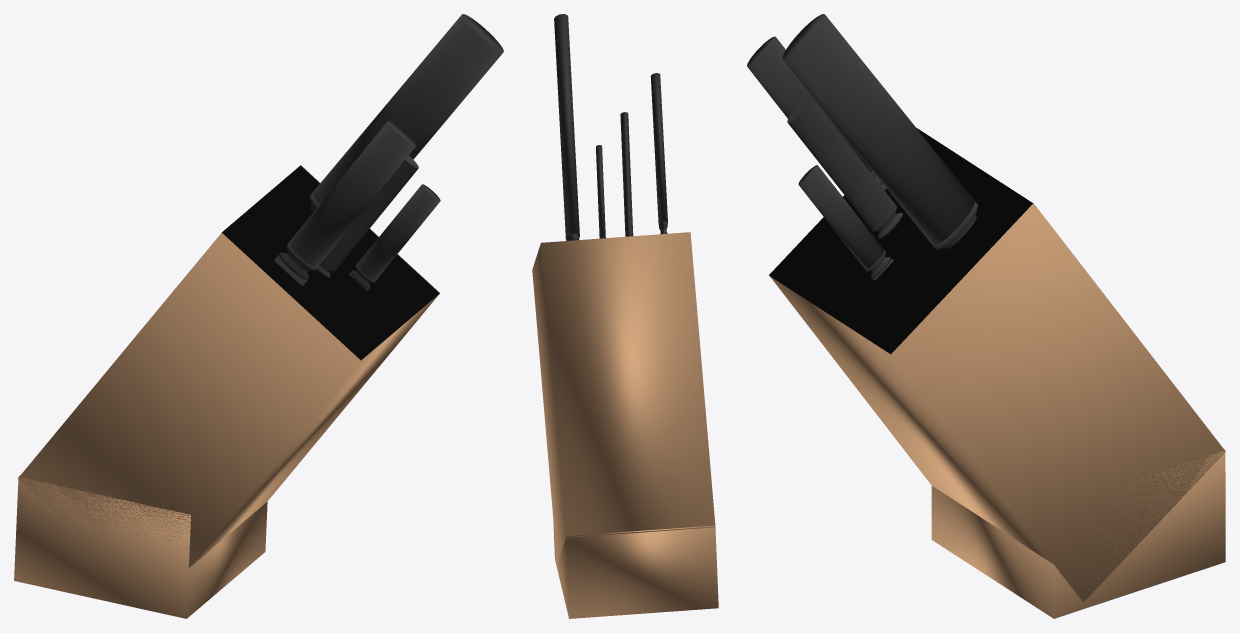
File: knife rack.fbx
3 views of the same model, side by side, from view 1: azimuth 30°, elevation 25°; view 2: azimuth 150°, elevation 25°; view 3: azimuth 270°, elevation 25° (orthographic). The views are drawn at different scales.
Visible parts, largest first — view 1: Cylinder.003; view 2: Cylinder.003; view 3: Cylinder.003.
Boxes of the visible parts, x1,y1,x2,y2 form: Cylinder.003: (14, 14, 503, 618); Cylinder.003: (532, 14, 718, 618); Cylinder.003: (747, 14, 1225, 618).
Size of the model in its own units: 374 by 608 by 403.
